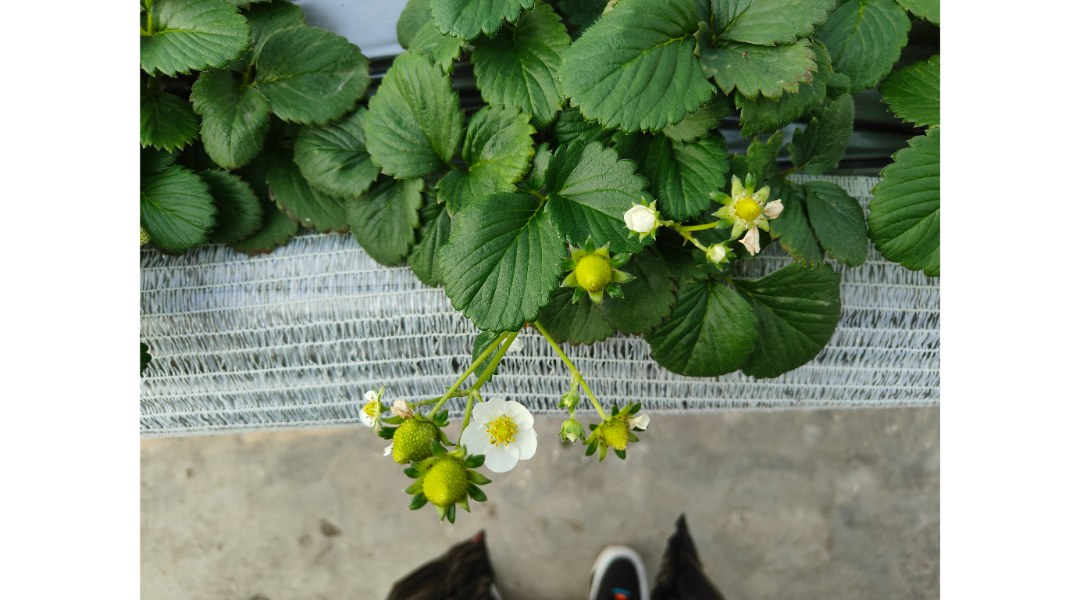berry: (418, 442, 483, 531), (711, 165, 782, 241), (556, 242, 635, 308), (384, 398, 445, 463), (591, 397, 637, 466), (561, 418, 584, 450), (558, 391, 577, 418)
flower: (468, 395, 539, 479), (617, 200, 674, 244), (348, 392, 387, 429)
strain: (429, 368, 466, 414), (533, 331, 572, 363), (473, 327, 491, 363), (583, 384, 606, 412)
